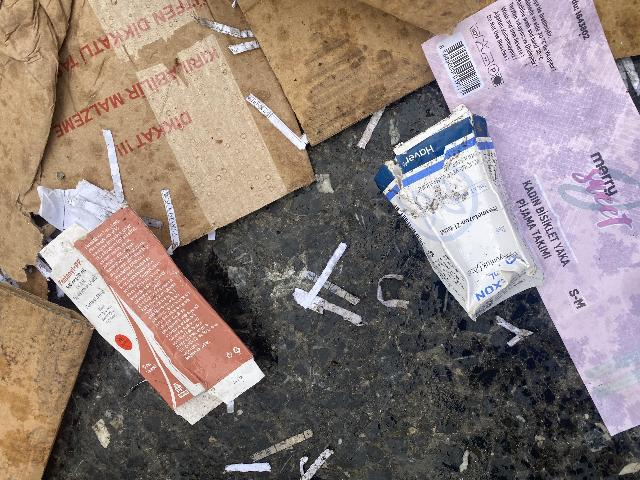Kagit: (0, 0, 640, 480), (0, 0, 421, 217), (27, 179, 273, 429), (365, 143, 540, 310)
Plastik: (424, 0, 640, 456)
